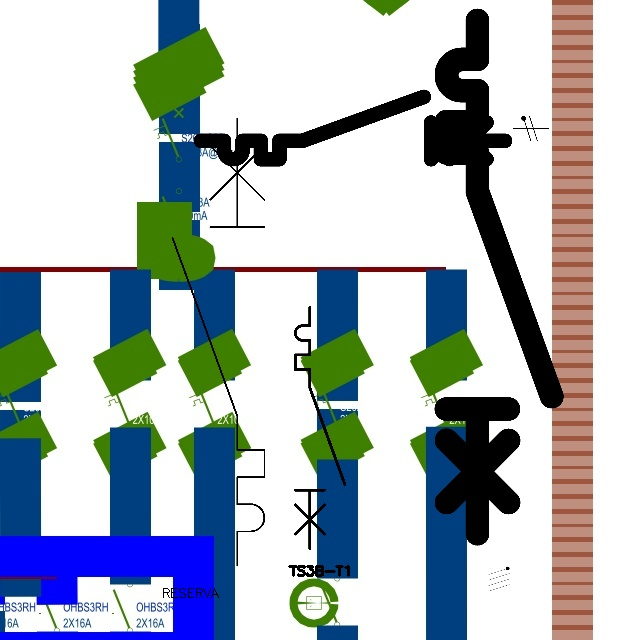interruptor_termomagnetico: (433, 7, 565, 546), (161, 107, 276, 577), (193, 89, 512, 167), (289, 301, 351, 555)
